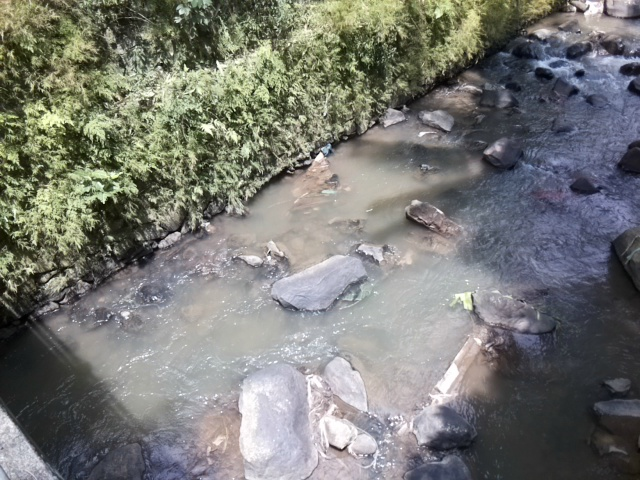Sampah_Plastik: (319, 143, 333, 154)
